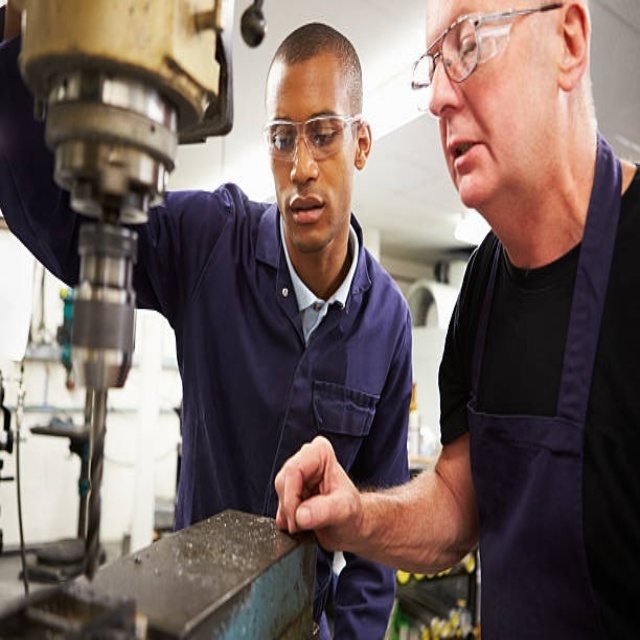Gafas: (409, 4, 562, 104), (262, 114, 362, 161)
Sin_guantes: (280, 436, 364, 551)
Sin_mascara: (442, 124, 496, 193), (288, 187, 328, 237)
